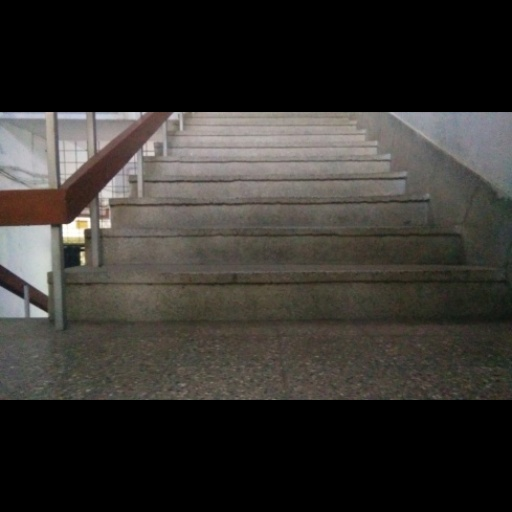Stairs: (66, 113, 506, 321)
